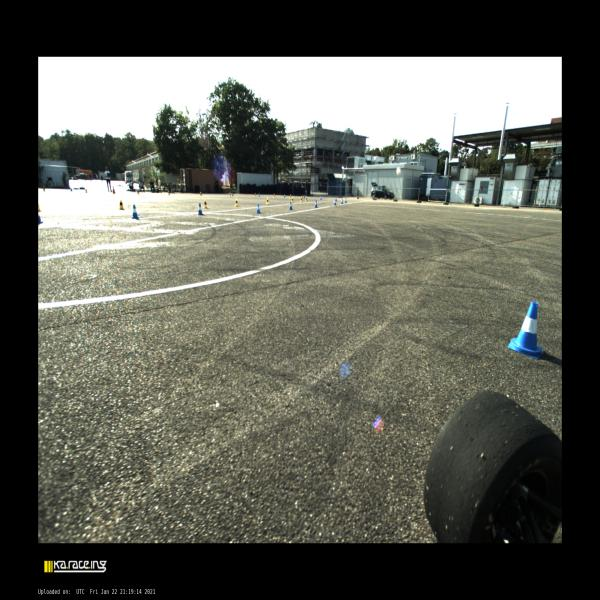blue_cone: (507, 302, 544, 359), (132, 204, 140, 218), (197, 203, 203, 215), (256, 204, 261, 213), (288, 200, 292, 210), (314, 200, 318, 208), (341, 198, 343, 204), (335, 197, 338, 201), (334, 200, 336, 205), (344, 198, 346, 202), (258, 193, 260, 197), (70, 187, 72, 191), (284, 194, 286, 197), (303, 195, 305, 198), (232, 193, 234, 196), (320, 196, 321, 200)
large_orange_cone: (112, 186, 116, 194)
yellow_cone: (119, 199, 124, 210), (203, 199, 208, 208), (234, 198, 239, 206), (266, 197, 269, 204), (292, 197, 294, 203), (306, 196, 308, 202), (85, 189, 88, 193), (289, 194, 291, 199), (300, 197, 302, 202), (229, 192, 231, 197), (138, 190, 140, 195), (273, 194, 275, 198), (254, 193, 256, 197), (168, 191, 170, 195), (200, 192, 202, 196), (302, 195, 303, 200)
